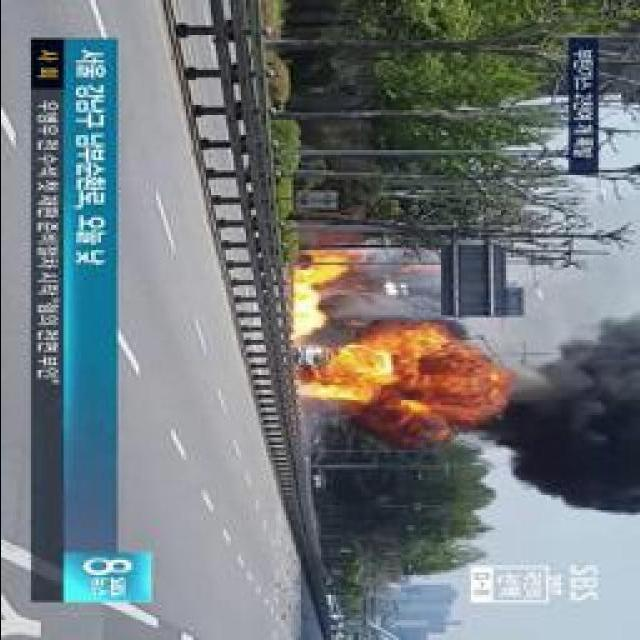Fire: (298, 348, 360, 401), (294, 250, 324, 340), (328, 248, 352, 278)
